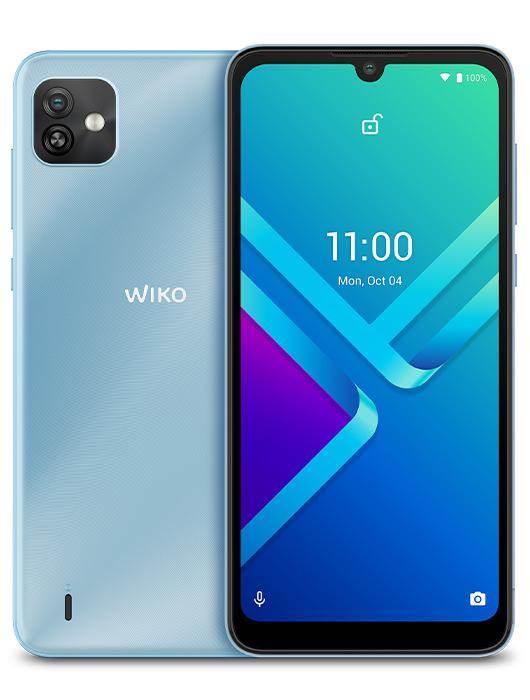Smartphone: (232, 40, 519, 649), (23, 53, 219, 660)
